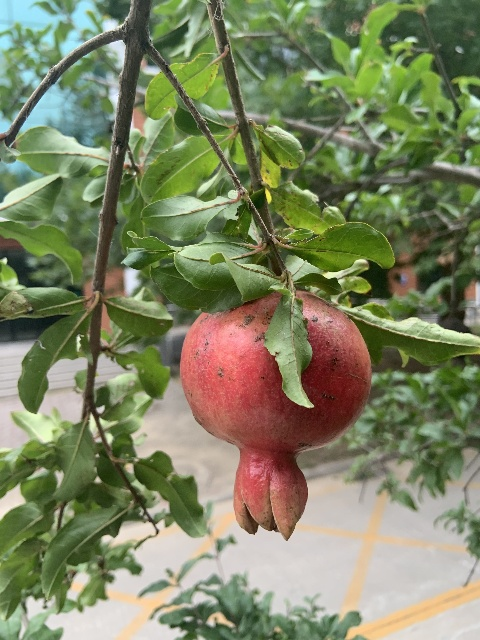ripe: (179, 290, 371, 540)
